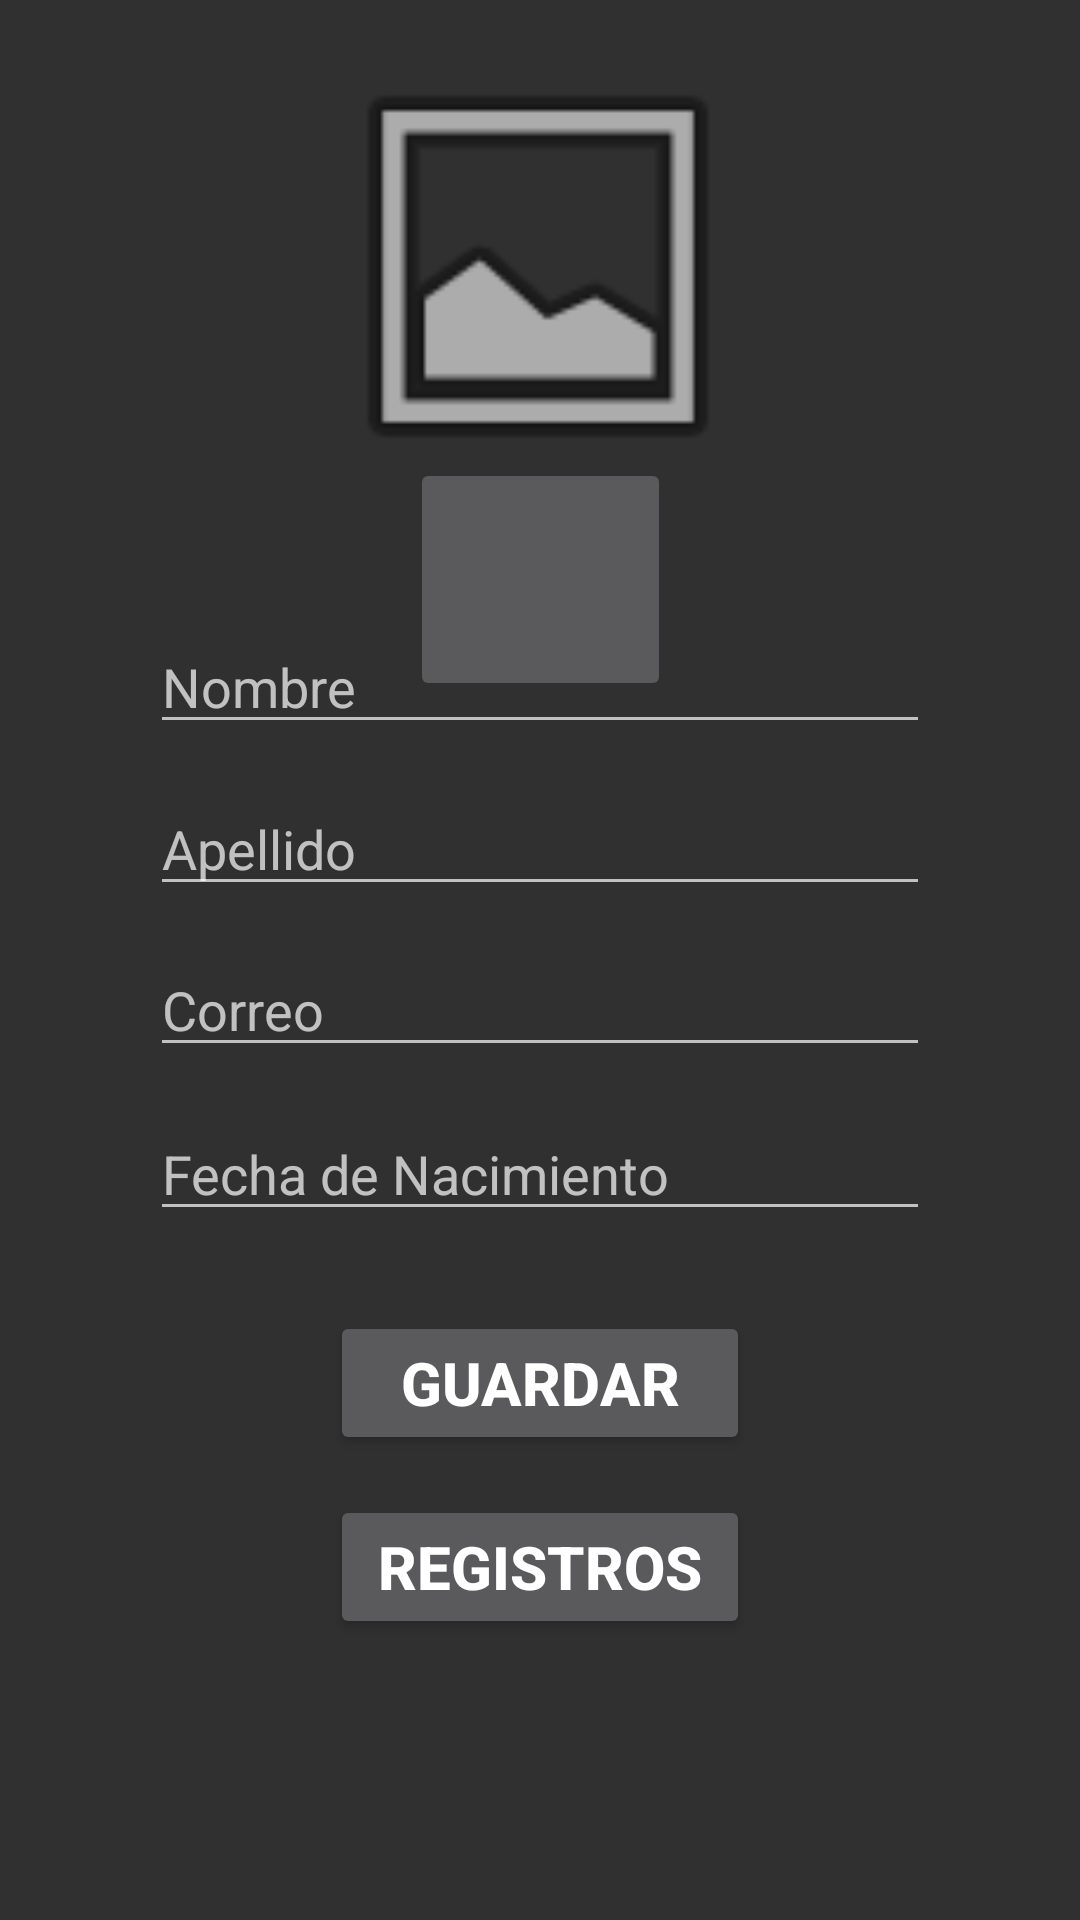

Named icons in this screenshot (1080*1920) and their centers, point (x, y):
gallery: point (538, 266)
